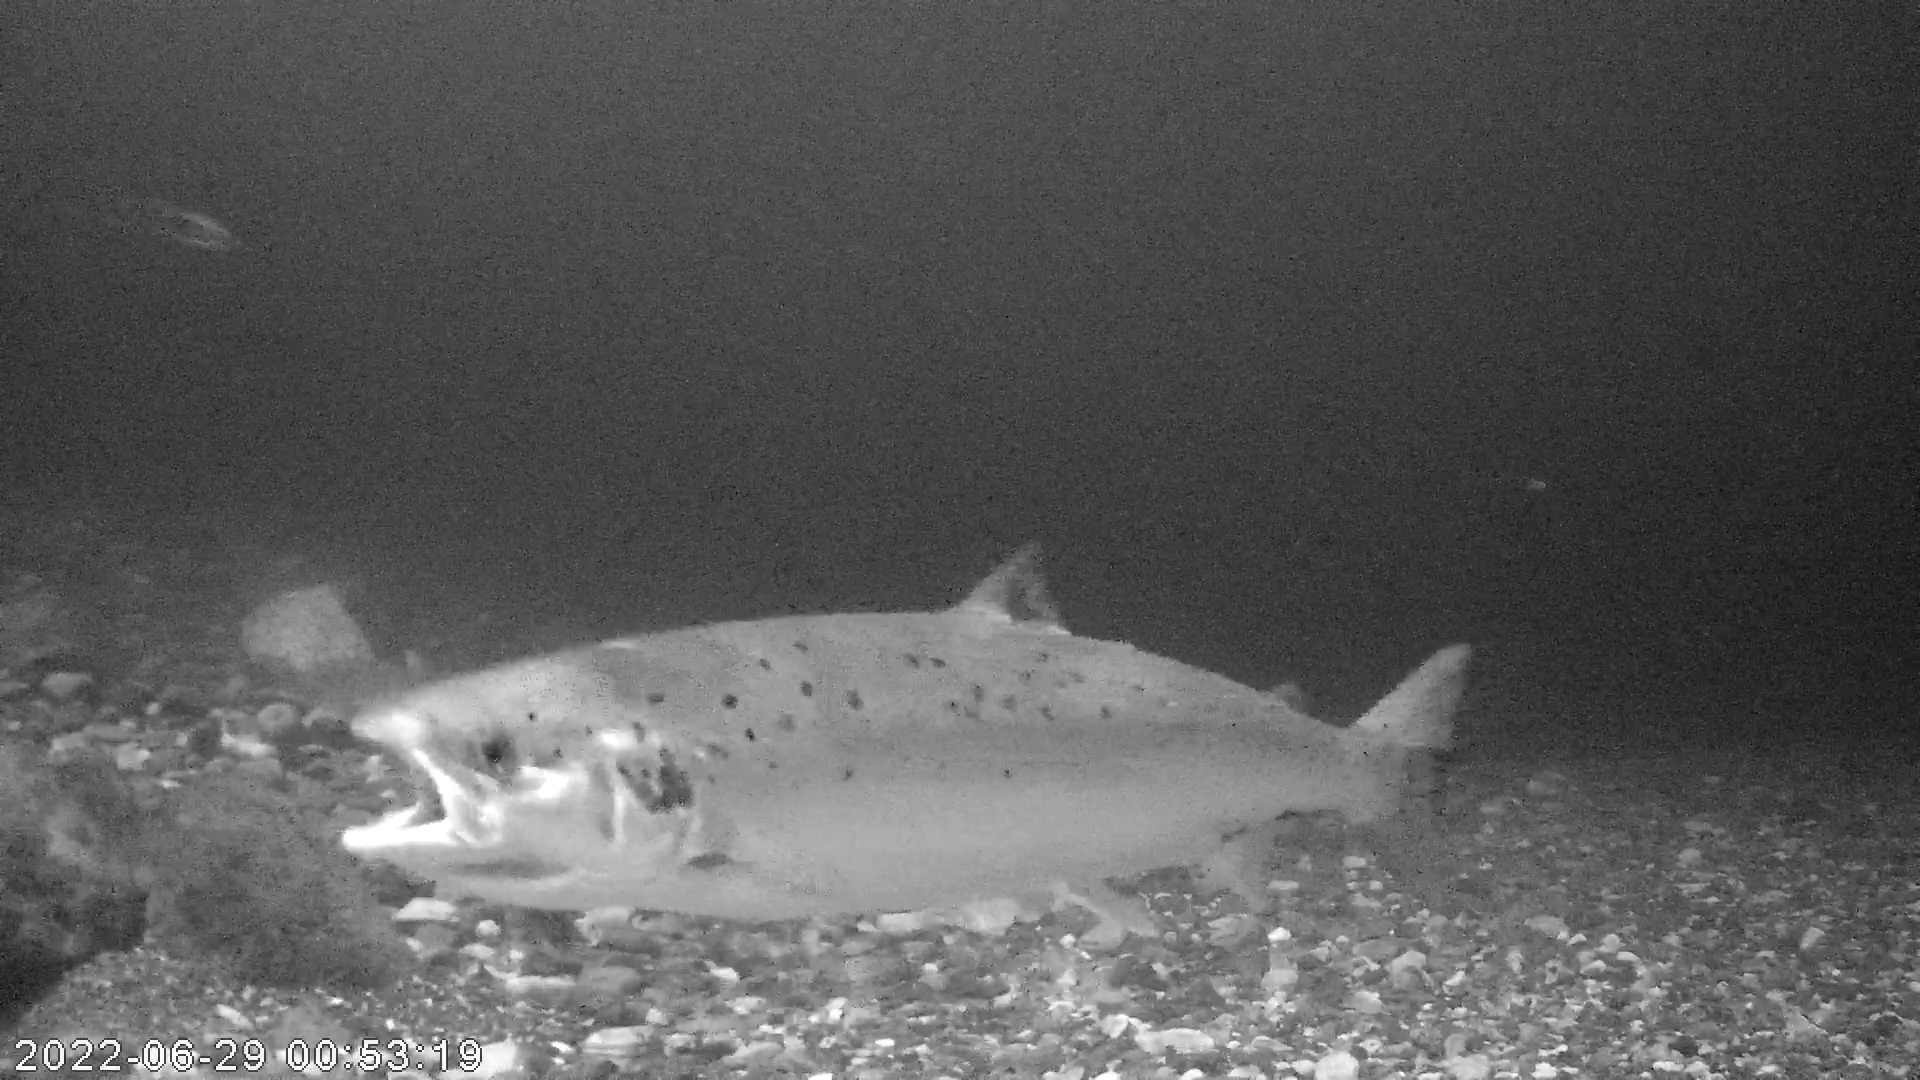salmon: (335, 530, 1478, 942)
